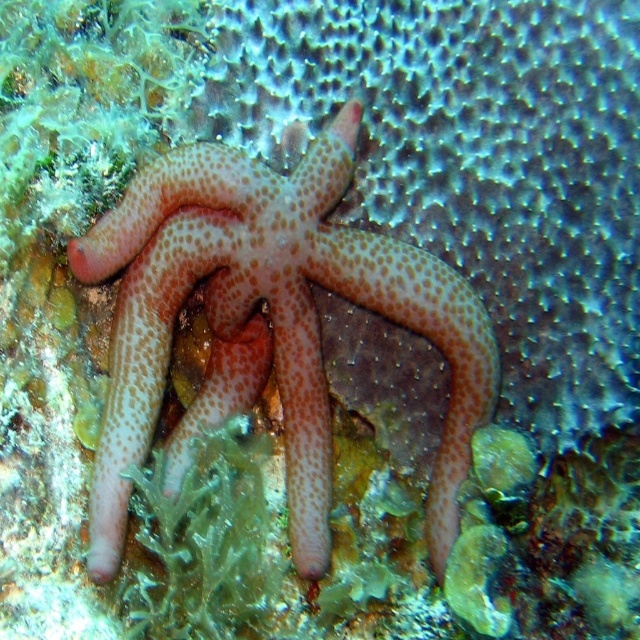Starfish: (68, 99, 502, 588)
